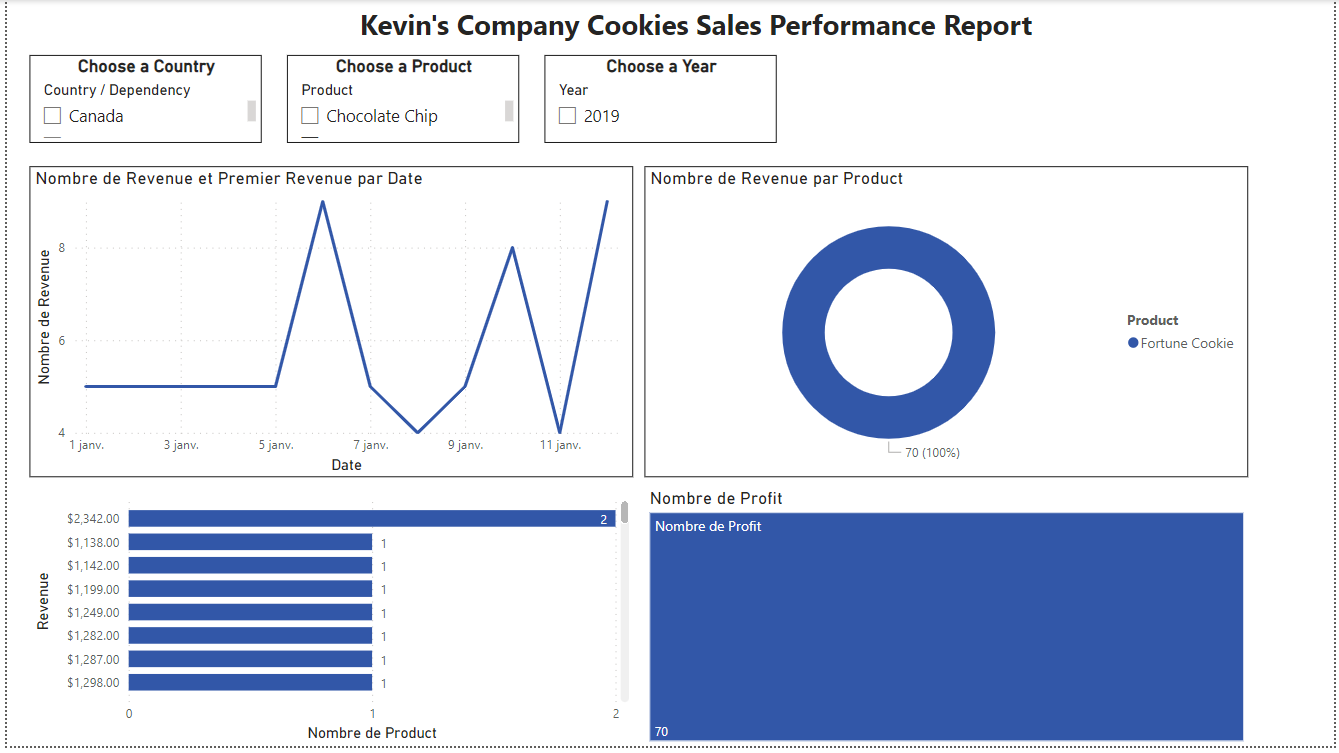

This screenshot's page, from the dashboard's own definition file:
{"tool":"powerbi","page":{"name":"Page 1","canvas":[1280,720],"ordinal":0},"visuals":[{"type":"textbox","box":[300.5,0,728.6,53.5],"z":0},{"type":"lineChart","fields":{"Category":["Cookies Sales.Date"],"Y":["Cookies Sales.Revenue"]},"box":[21.7,160.4,582.5,300.3],"z":1000},{"type":"slicer","title":"Choose a Country","fields":{"Values":["Country Population.Country / Dependency"]},"box":[21.7,53.1,224.3,84.4],"z":2000},{"type":"slicer","title":"Choose a Product","fields":{"Values":["Cookies Sales.Product"]},"box":[270.2,53.1,224.3,84.4],"z":3000},{"type":"donutChart","fields":{"Category":["Cookies Sales.Product"],"Y":["Cookies Sales.Revenue"]},"box":[615.1,160.4,582.5,300.3],"z":4000},{"type":"slicer","title":"Choose a Year","fields":{"Values":["Cookies Sales.Year"]},"box":[518.6,53.1,224.3,84.4],"z":6000},{"type":"barChart","fields":{"Y":["Cookies Sales.Product"],"Category":["Cookies Sales.Revenue","Cookies Sales.Profit"]},"box":[22,470,583,250],"z":6001},{"type":"treemap","fields":{"Values":["Cookies Sales.Profit"]},"box":[615,470,583,250],"z":6002}]}

Visuals, with their boxes in screenshot pixels (x1, y1, x2, y2), scaled from the page's 1280x720 canvas onto the 1339x753 screenshot:
textbox: [314,0,1077,56]
lineChart - Cookies Sales.Date x Cookies Sales.Revenue: [23,168,632,482]
"Choose a Country" slicer: [23,56,257,144]
"Choose a Product" slicer: [283,56,517,144]
donutChart - Cookies Sales.Product x Cookies Sales.Revenue: [643,168,1253,482]
"Choose a Year" slicer: [543,56,777,144]
barChart - Cookies Sales.Product x Cookies Sales.Revenue: [23,492,633,752]
treemap - Cookies Sales.Profit: [643,492,1253,752]
